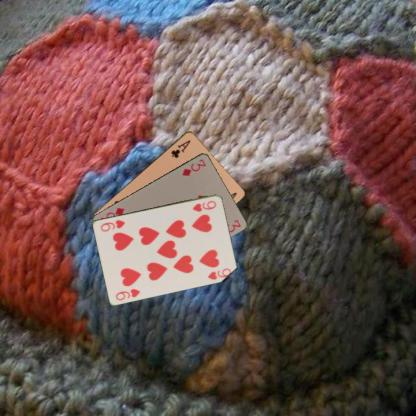3d: (180, 156, 207, 177)
9h: (113, 286, 142, 302), (190, 198, 217, 212)
Ac: (168, 137, 192, 159)
